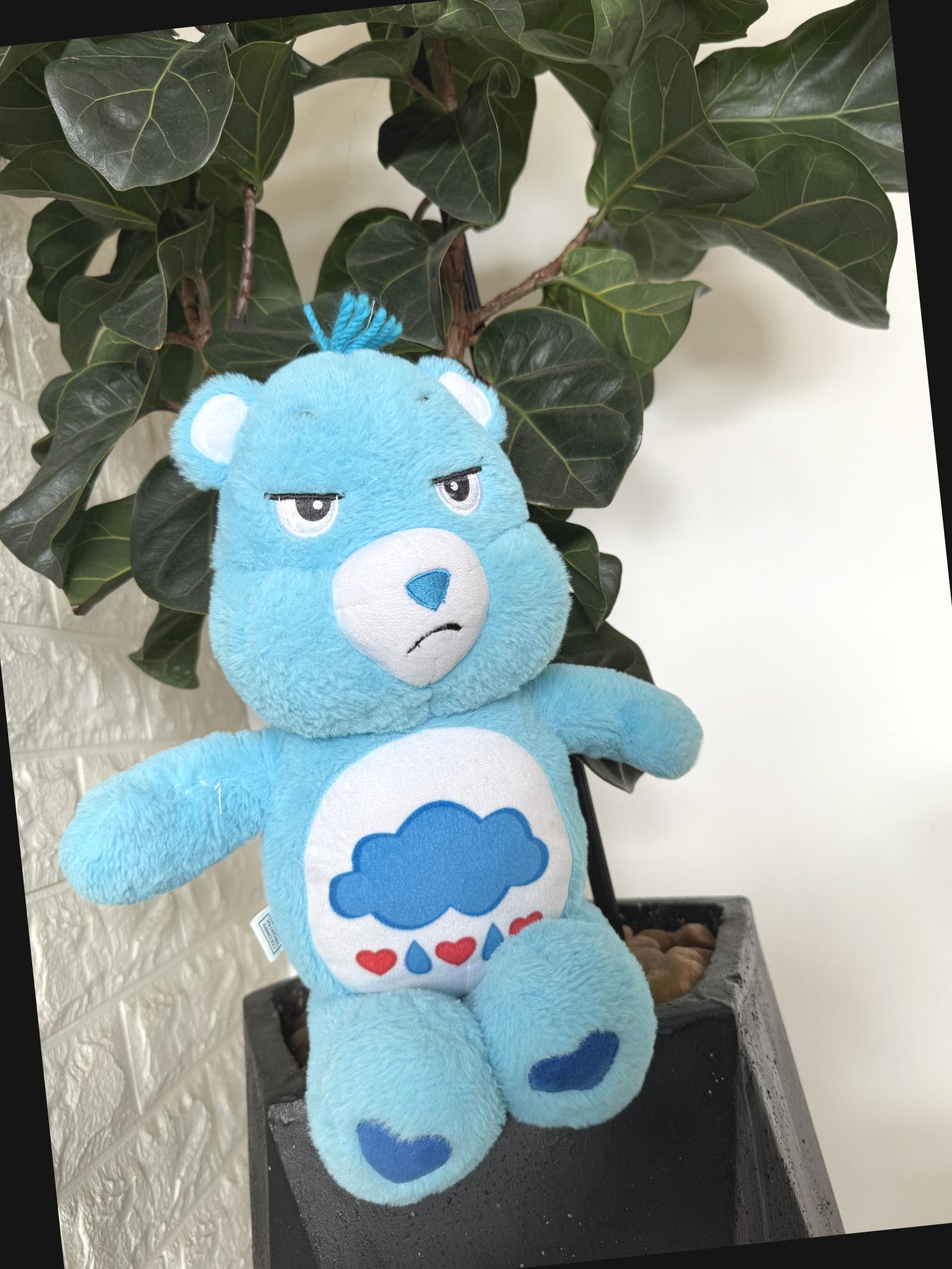peluche_Juan Jose: (154, 286, 658, 1216)
